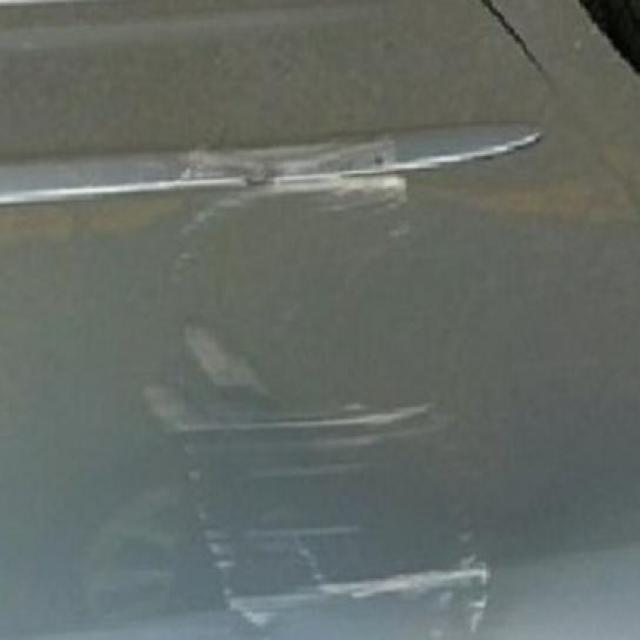scratch: (141, 119, 535, 640)
